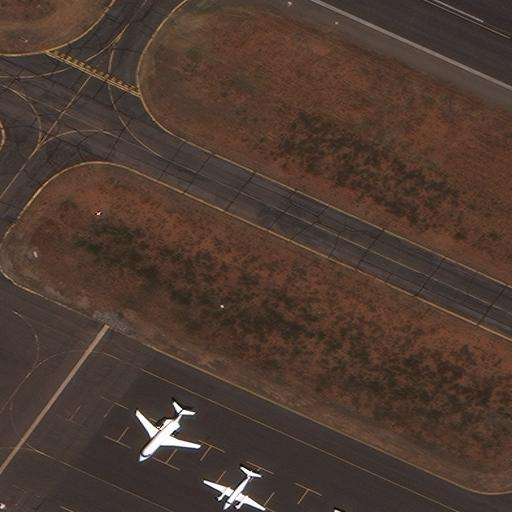Medium Civil Transport: (135, 408, 198, 461), (202, 470, 263, 511)
